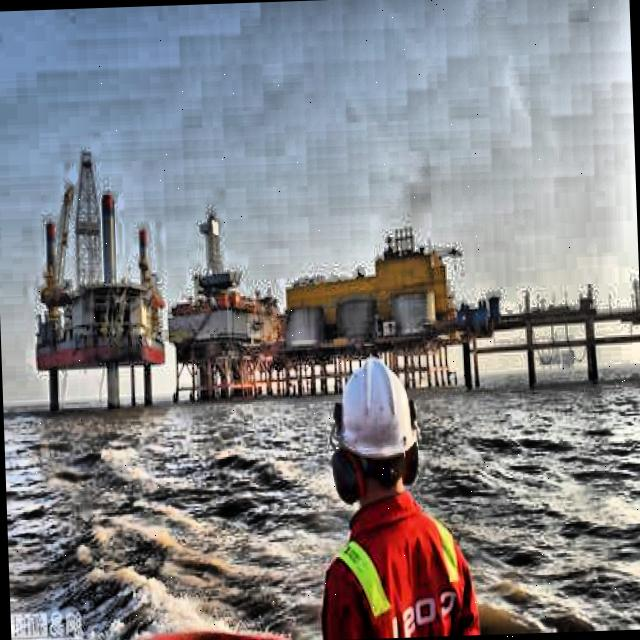helmet: (322, 342, 422, 522)
